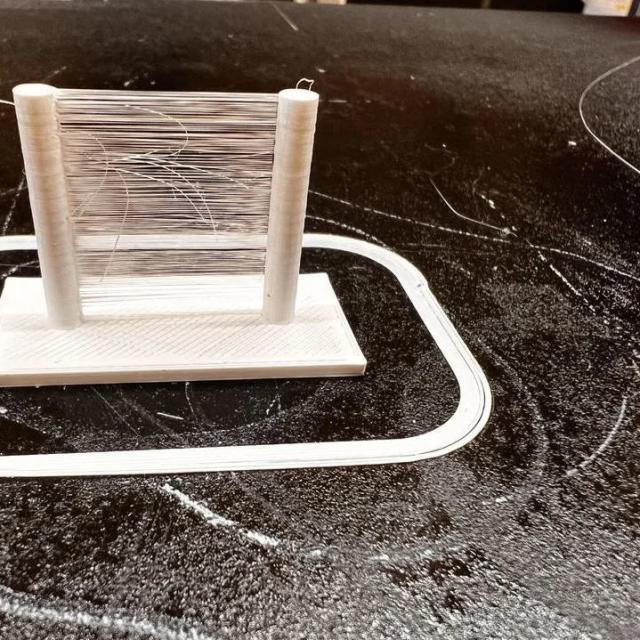stringing: (46, 88, 281, 322)
